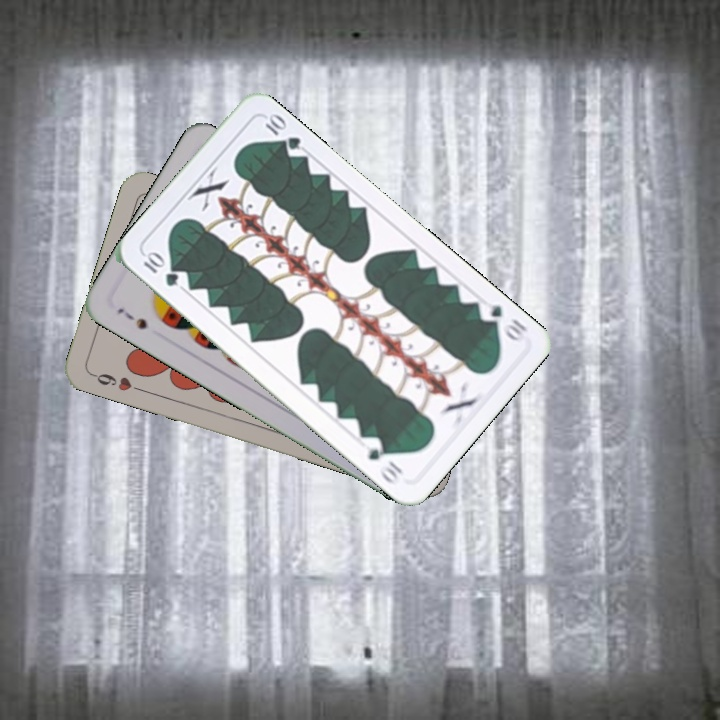G10: (474, 297, 530, 344), (139, 248, 181, 290)
H9: (87, 369, 145, 394)
S7: (113, 303, 150, 333)
